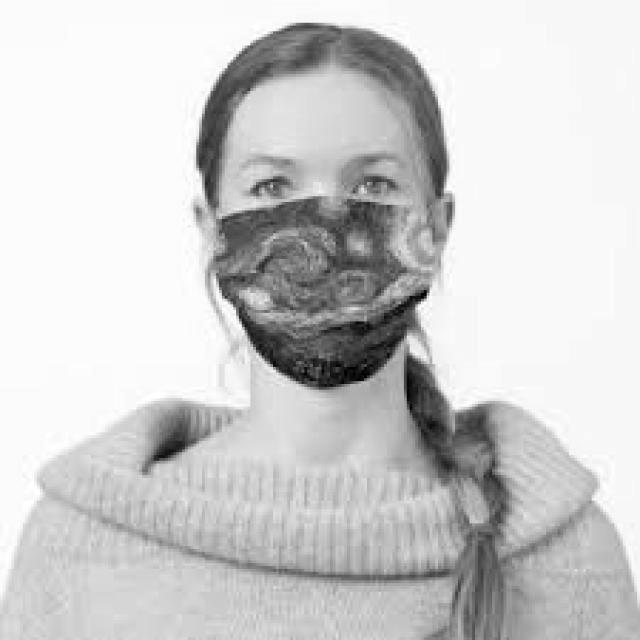fake: (216, 199, 440, 388)
real: (220, 74, 437, 395)
